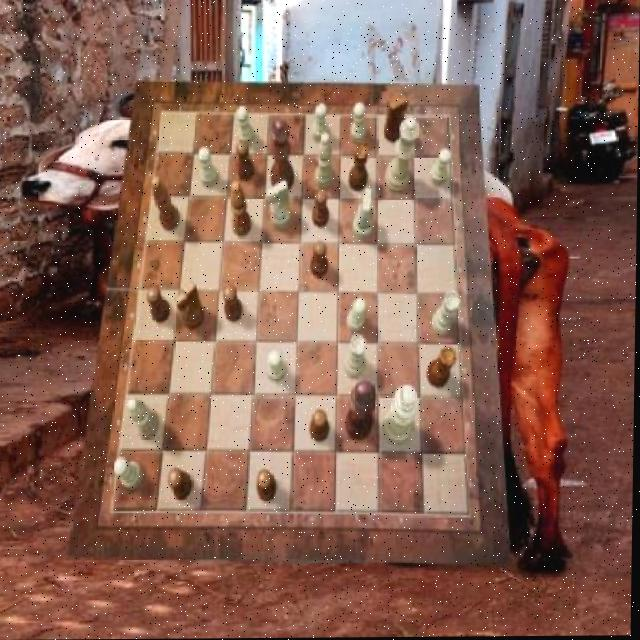bishop: (151, 176, 181, 230), (231, 180, 252, 236)
black-bishop: (347, 382, 378, 442)
black-king: (175, 282, 205, 330), (384, 96, 409, 144)
black-knight: (147, 287, 171, 323), (170, 470, 194, 502), (236, 142, 256, 180), (224, 287, 244, 323), (310, 241, 328, 279), (312, 409, 332, 443), (313, 189, 330, 227), (259, 471, 279, 503)
black-pawn: (270, 120, 295, 194)
black-queen: (428, 348, 458, 390), (349, 144, 369, 193)
black-rook: (127, 397, 161, 440), (315, 134, 335, 190)
white-bishop: (382, 385, 420, 445)
white-king: (268, 182, 292, 229), (353, 189, 374, 241)
white-knight: (114, 456, 145, 490), (199, 146, 220, 188), (430, 150, 453, 187), (237, 106, 256, 148), (347, 298, 368, 333), (312, 104, 330, 143), (351, 103, 367, 144), (268, 351, 287, 383)
white-pawn: (385, 119, 419, 194)
white-queen: (433, 291, 461, 337), (345, 335, 368, 377)
